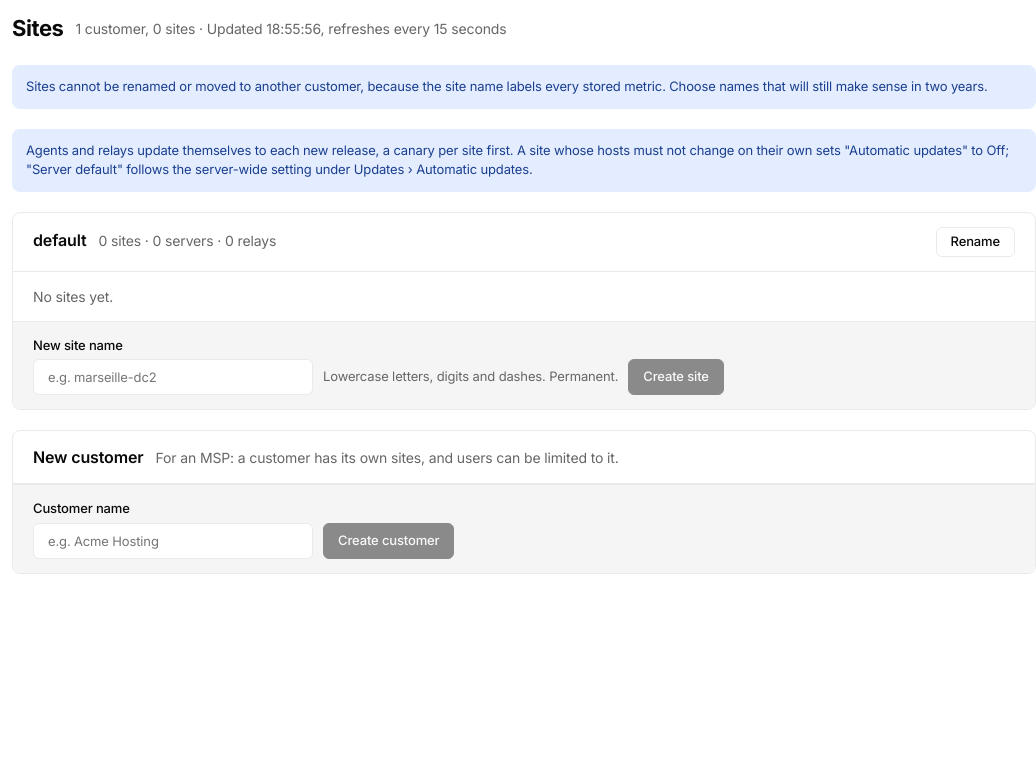
SitesAdmin › lets administrators of everything create and rename customers
Type "Acme Hosting" into the field labelled "Customer name" at (173, 540), box [33, 522, 313, 558]
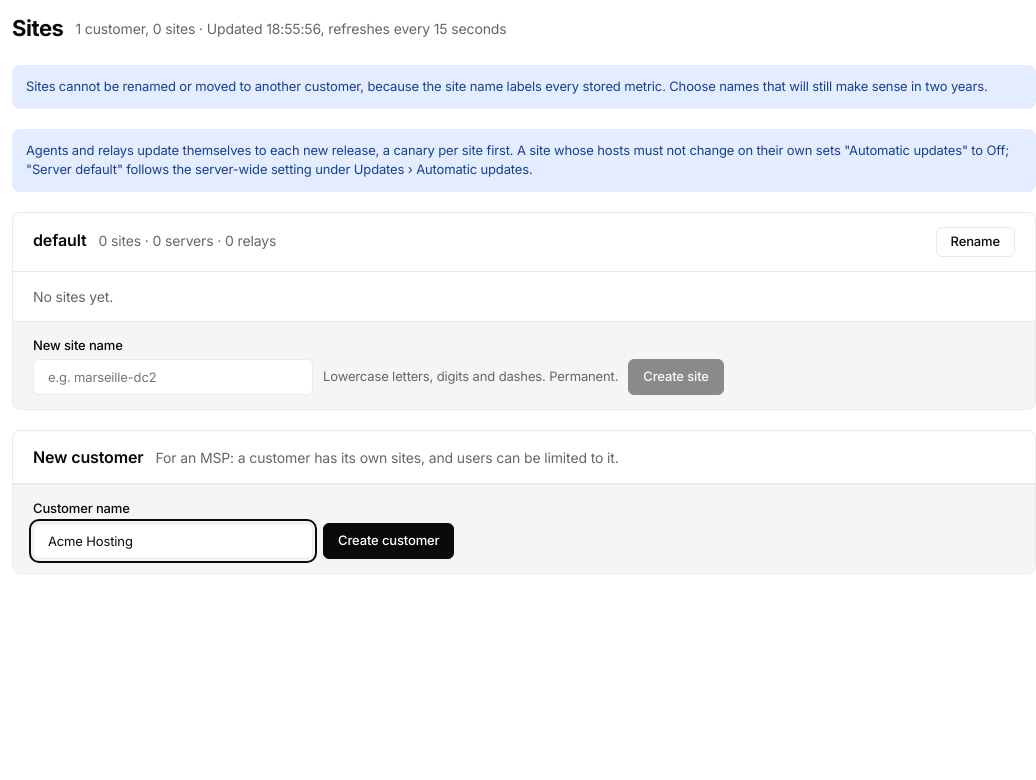
Click the button "Create customer" at (389, 540), box [323, 522, 454, 558]
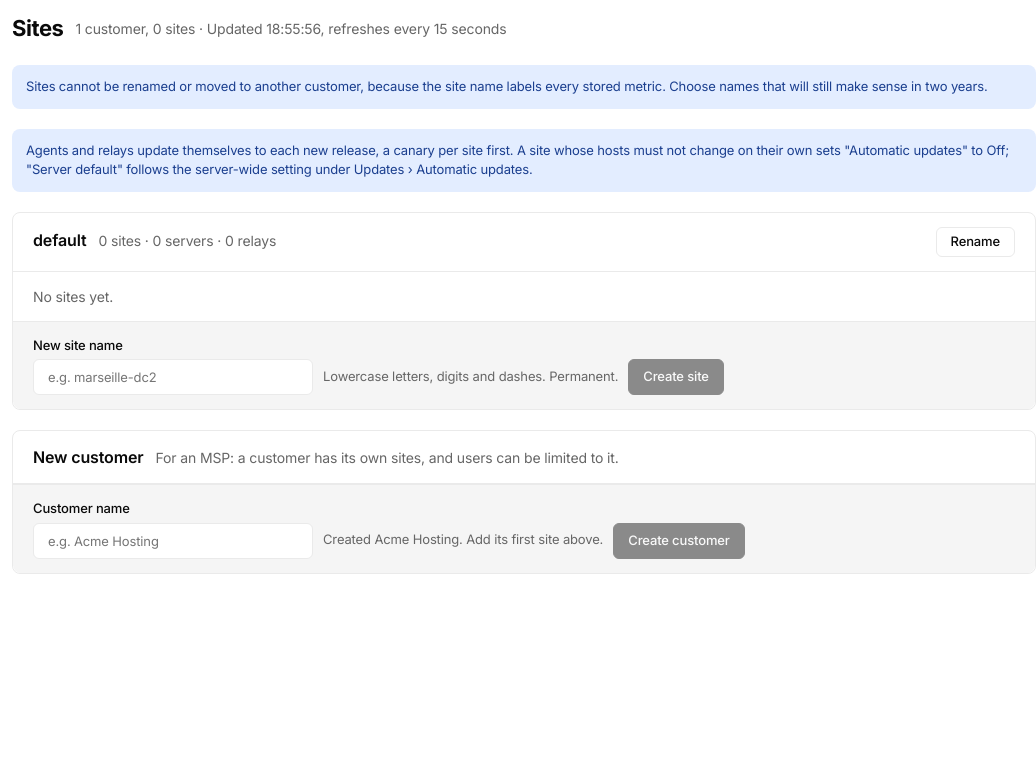
Expected: the message reads "Created Acme Hosting. Add its first site above.", [323, 531, 603, 547]
Click the button with aria-label "Rename default" at (975, 242), box [936, 226, 1015, 256]
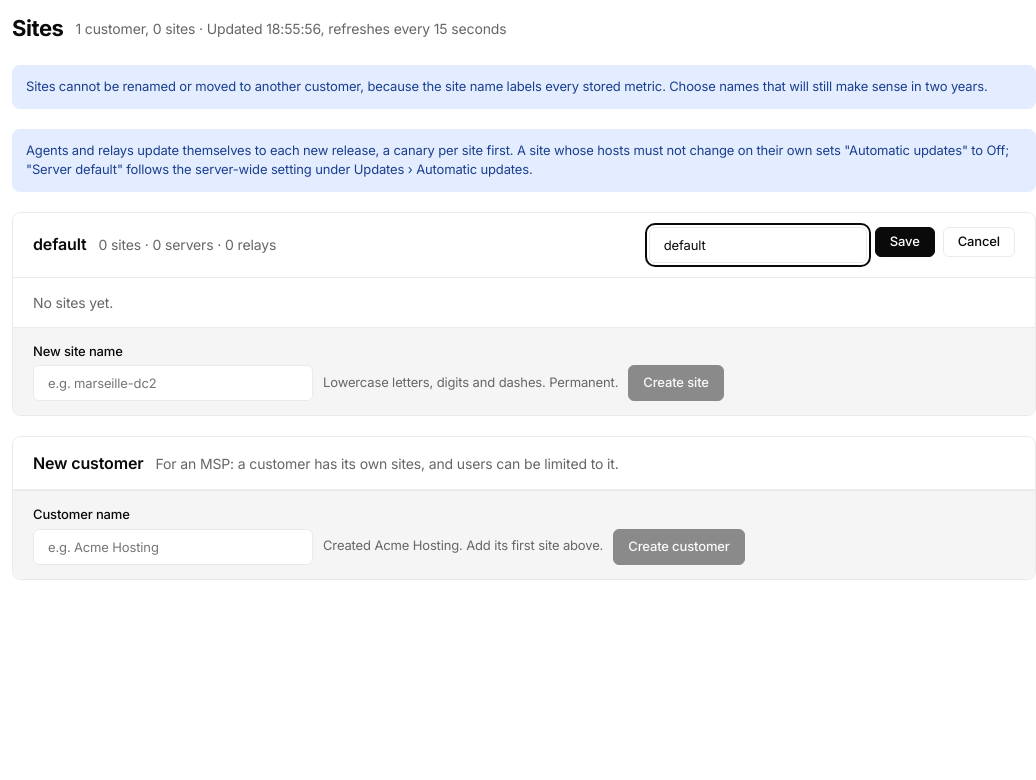
Replace the text in the field named "New name" with "Acme Hosting" at (758, 244), box [649, 226, 867, 262]
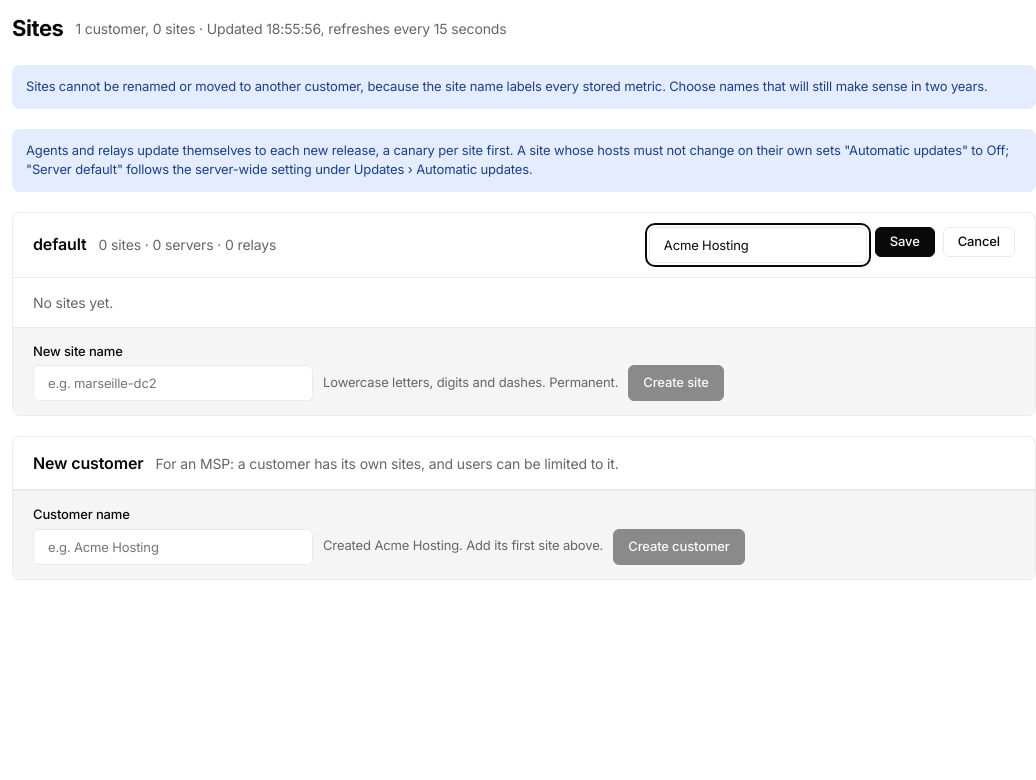
Click the button "Save" at (905, 242), box [875, 226, 935, 256]
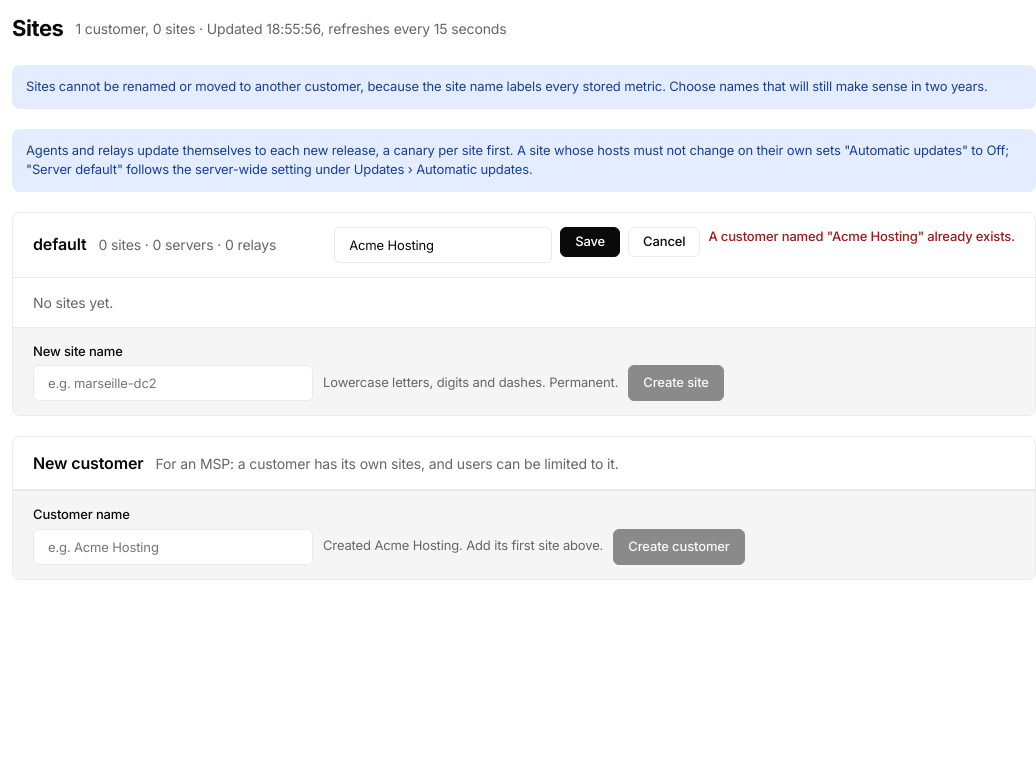
Expected: the message "A customer named \"Acme Hosting\" already exists." reads "A customer named \"Acme Hosting\" already exists.", [708, 228, 1015, 244]
